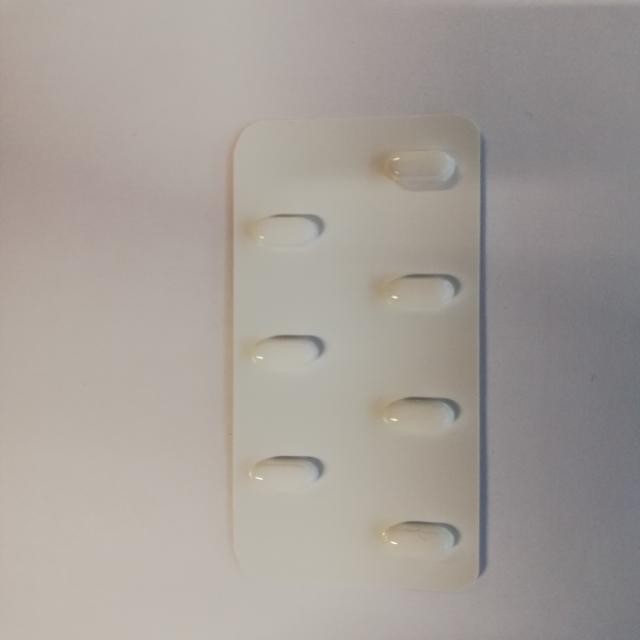Pill: (366, 268, 468, 313), (237, 451, 339, 496), (232, 331, 334, 375), (372, 392, 467, 439), (370, 514, 465, 561), (371, 143, 468, 189), (239, 206, 331, 250)
